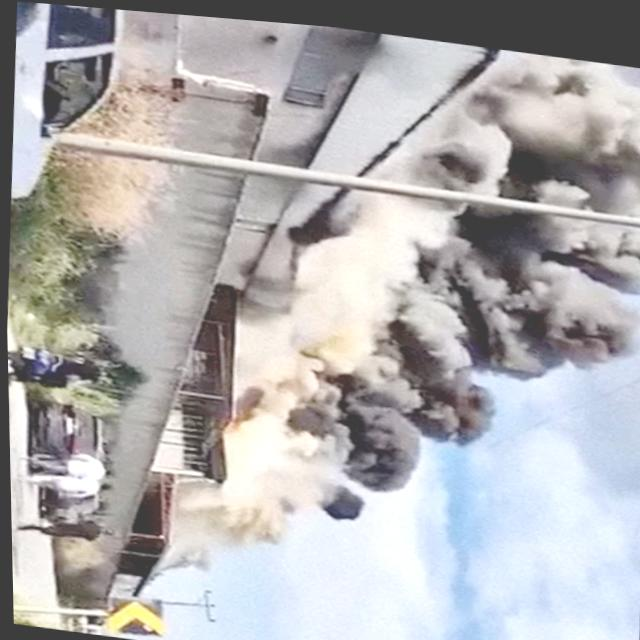no_helmet: (150, 10, 640, 619)
